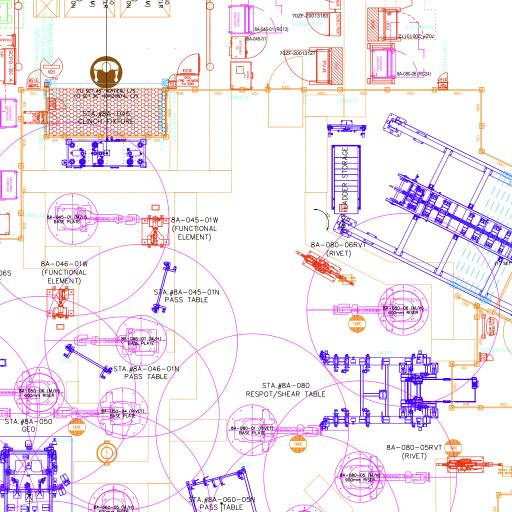robot: (333, 448, 432, 506), (54, 384, 150, 442), (331, 282, 430, 338), (225, 402, 323, 458), (73, 312, 168, 369), (45, 190, 141, 246)
